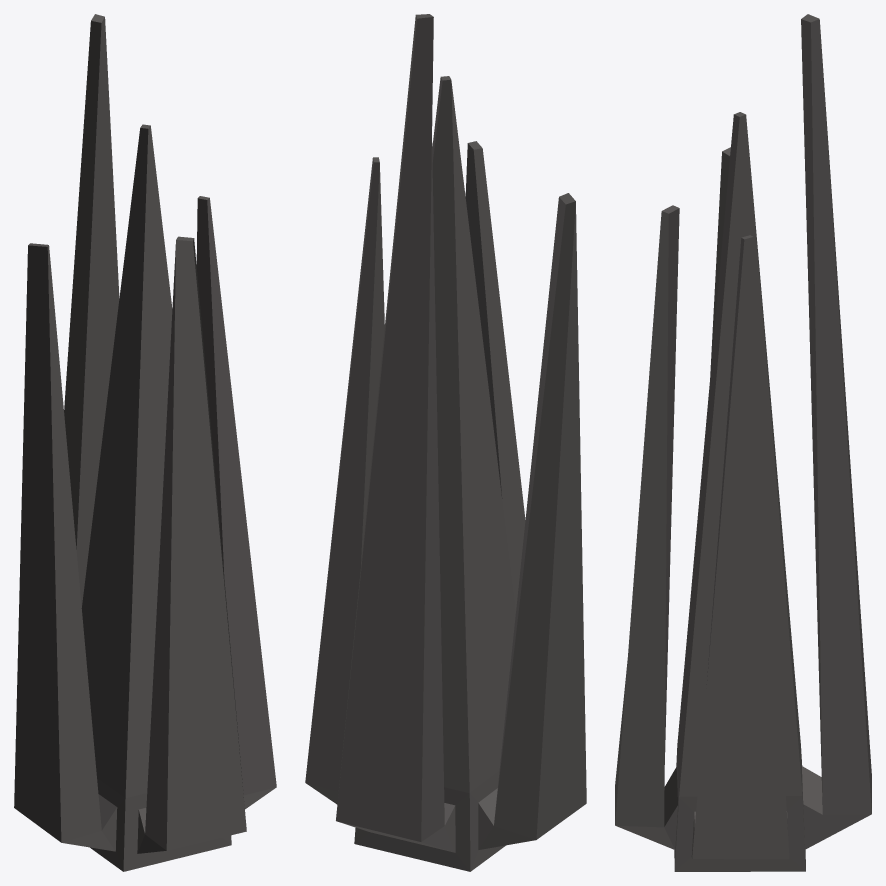
The model's file is Stalagmite.FBX.
3 views of the same model, side by side, from view 1: azimuth 30°, elevation 25°; view 2: azimuth 150°, elevation 25°; view 3: azimuth 270°, elevation 25° (orthographic). The views are drawn at different scales.
Visible parts, largest first — view 1: Stalagmite; view 2: Stalagmite; view 3: Stalagmite.
Boxes of the visible parts, box(x1,y1,x2,y2) form: Stalagmite: box(14, 14, 276, 871); Stalagmite: box(305, 14, 586, 871); Stalagmite: box(615, 14, 871, 871).
Bounding box in the file's own units: 5.71 × 19.04 × 5.41.
